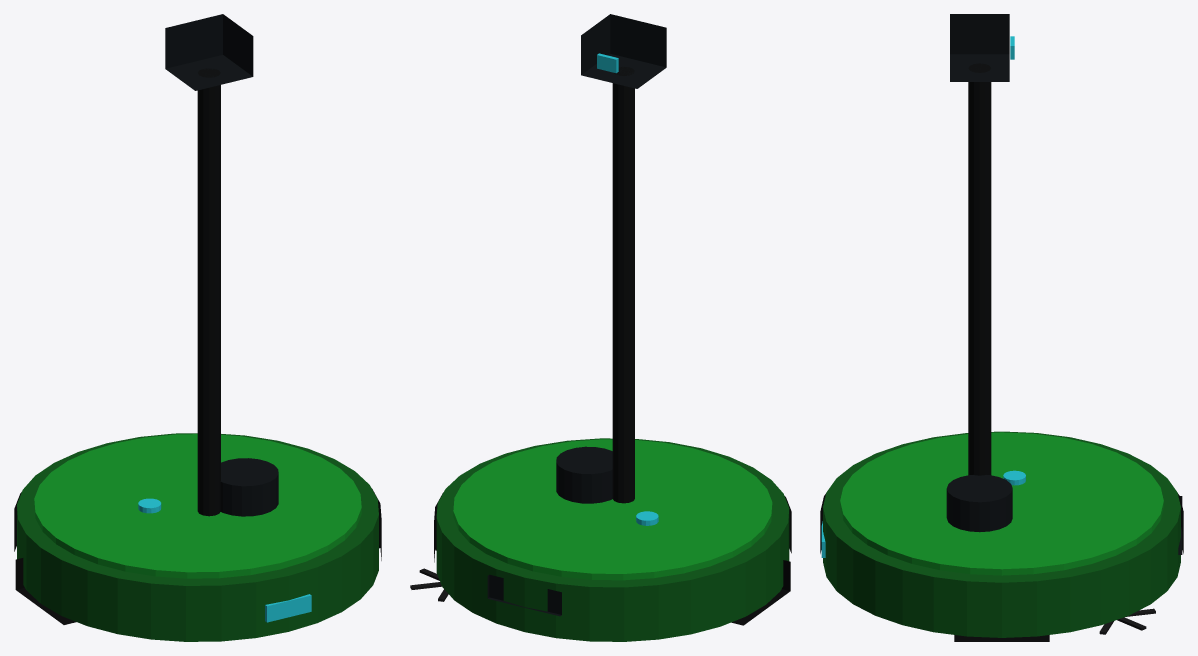
The model's file is robot_green_h090.obj.
3 views of the same model, side by side, from view 1: azimuth 30°, elevation 25°; view 2: azimuth 150°, elevation 25°; view 3: azimuth 270°, elevation 25° (orthographic). The views are drawn at different scales.
Parts seen in each view (by area): view 1: low_poly_robot_vacuum; view 2: low_poly_robot_vacuum; view 3: low_poly_robot_vacuum.
Part boxes in pixels (left/top/right/bottom): low_poly_robot_vacuum: left=14, top=14, right=381, bottom=641; low_poly_robot_vacuum: left=410, top=14, right=791, bottom=641; low_poly_robot_vacuum: left=820, top=14, right=1183, bottom=641.
Bounding box in the file's own units: 0.572 × 0.935 × 0.572.
